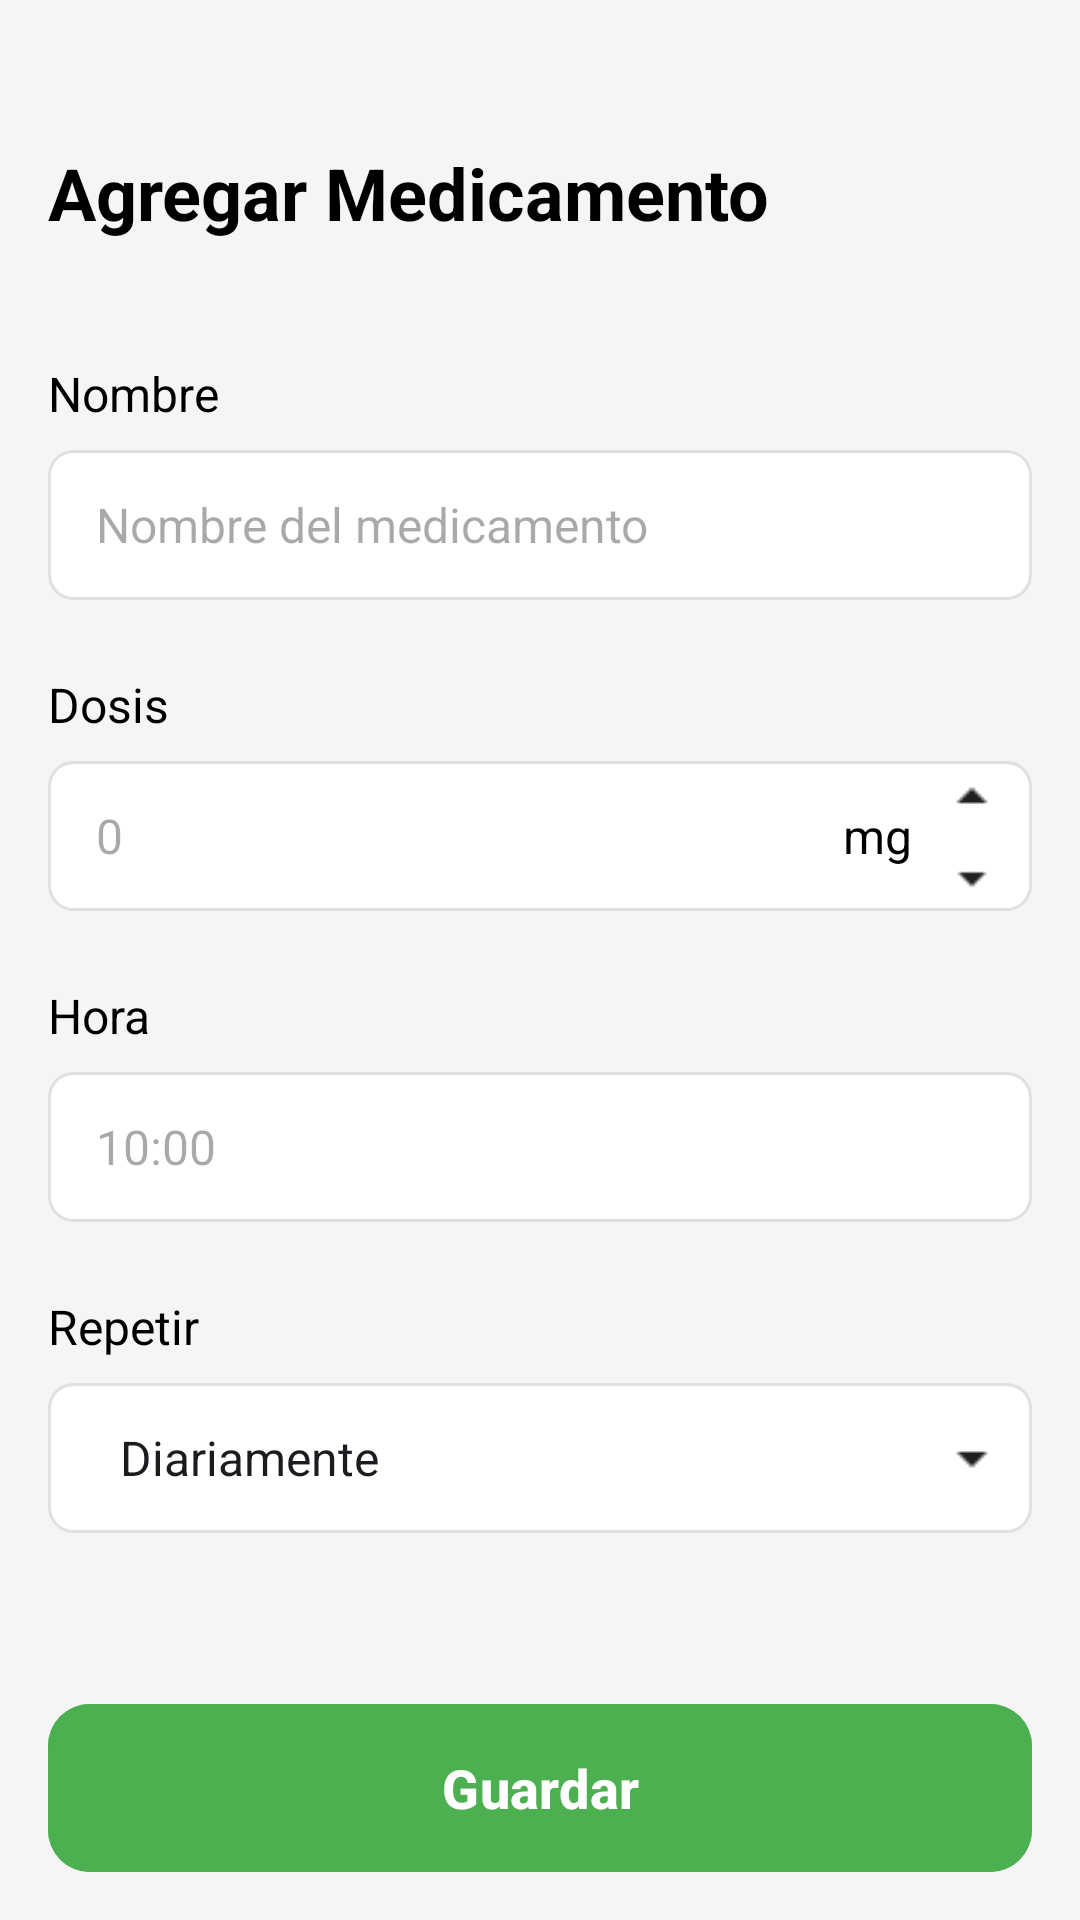

Icons on this 1080×1920 Android screen, each with its box as (left=x1, top=y1, right=x2, bottom=y2):
Decrease Dose: (left=958, top=871, right=986, bottom=887)
Dropdown arrow: (left=956, top=1451, right=988, bottom=1468)
Increase Dose: (left=956, top=787, right=988, bottom=804)
